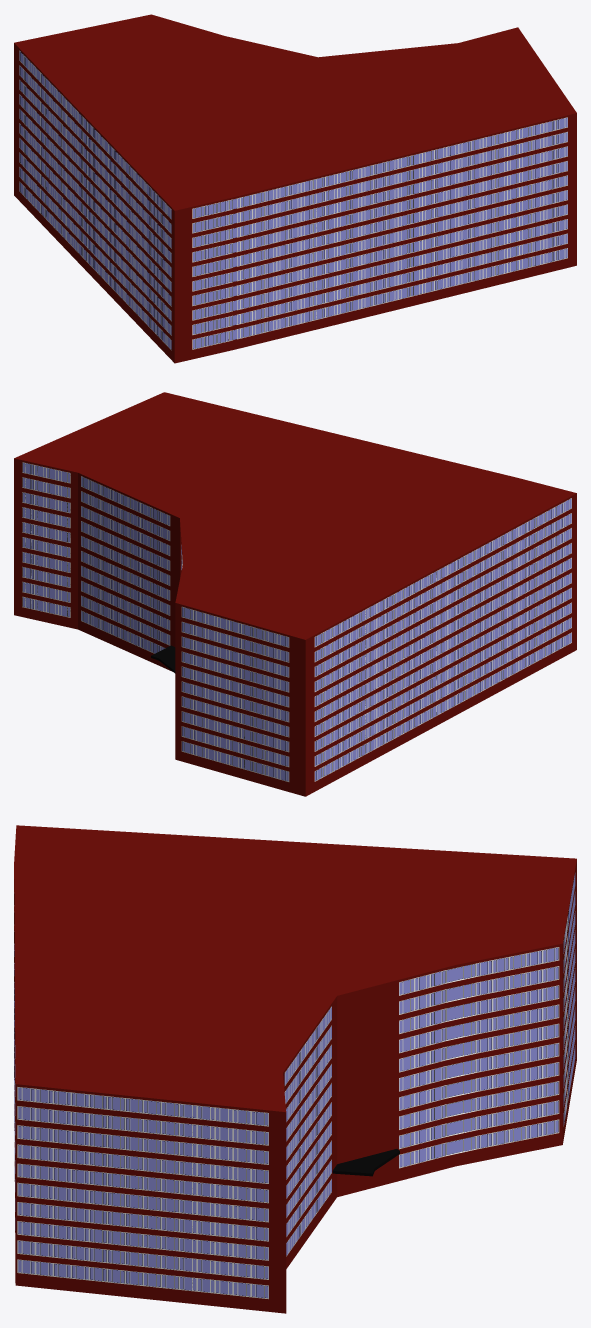
File: RouletteCasino.fbx
3 renders of one model, top to bottom at view 1: azimuth 30°, elevation 25°; view 2: azimuth 150°, elevation 25°; view 3: azimuth 270°, elevation 25°, orthographic. The views are drawn at different scales.
Visible parts, largest first — view 1: RouletteCasino; view 2: RouletteCasino; view 3: RouletteCasino.
Part boxes in pixels (x1=…): RouletteCasino: x1=14, y1=14, x2=576, y2=363; RouletteCasino: x1=14, y1=392, x2=576, y2=796; RouletteCasino: x1=14, y1=825, x2=576, y2=1313.
Size of the model in its own units: 9165 by 3000 by 7600.
